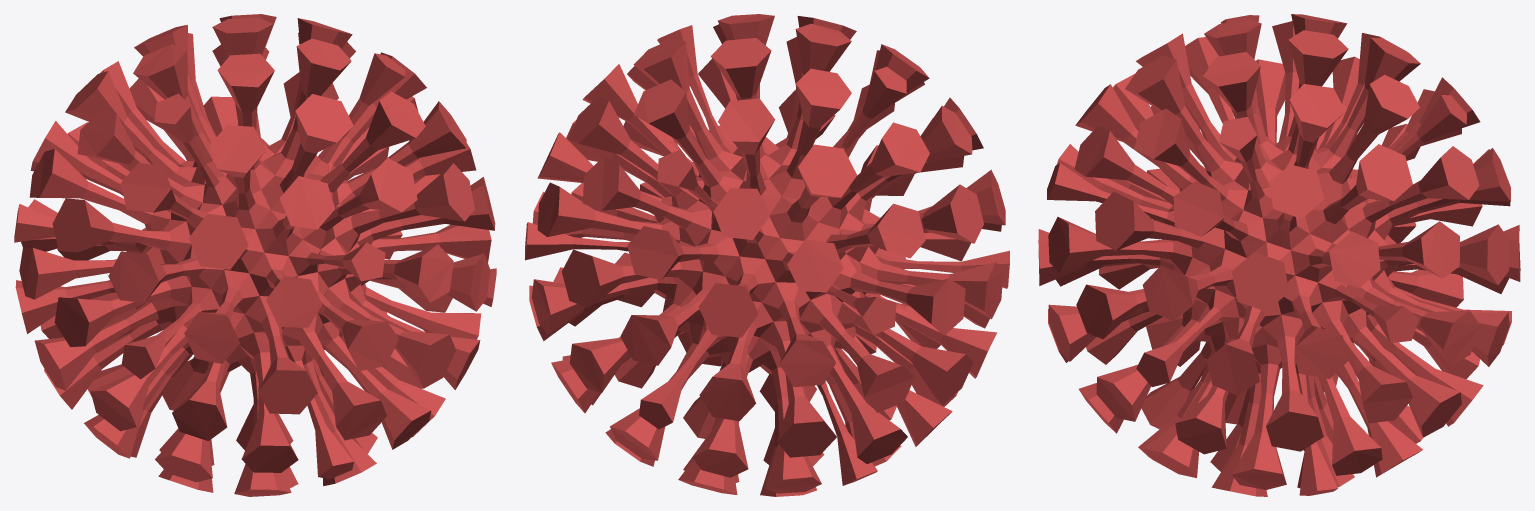
Rendered from virus_pinpon2.fbx.
The picture shows the model from 3 angles, left to right: view 1: azimuth 30°, elevation 25°; view 2: azimuth 150°, elevation 25°; view 3: azimuth 270°, elevation 25°; orthographic projection.
Parts seen in each view (by area): view 1: virus; view 2: virus; view 3: virus.
Boxes of the visible parts, box(x1,y1,x2,y2) form: virus: box(14, 14, 496, 496); virus: box(525, 14, 1009, 496); virus: box(1038, 14, 1520, 496).
Size of the model in its own units: 485 by 486 by 485.
